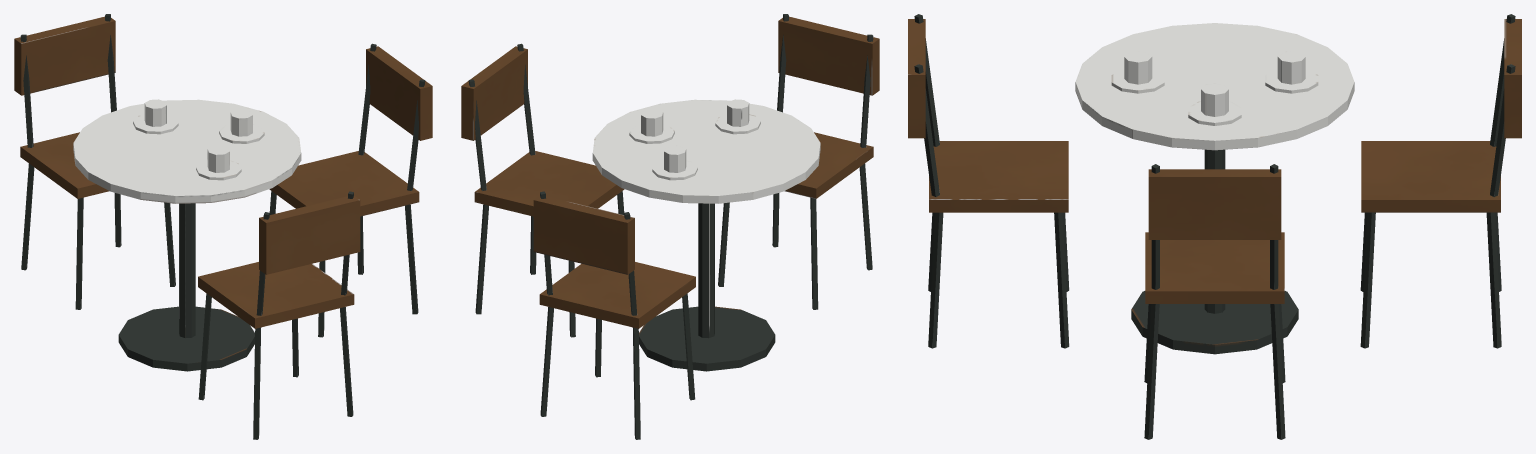
File: stolek_kavarna_dc02192d.glb
3 views of the same model, side by side, from view 1: azimuth 30°, elevation 25°; view 2: azimuth 150°, elevation 25°; view 3: azimuth 270°, elevation 25° (orthographic). The views are drawn at different scales.
Parts seen in each view (by area): view 1: dum; view 2: dum; view 3: dum.
Boxes of the visible parts, x1,y1,x2,y2 form: dum: (14,14,432,439); dum: (461,14,879,439); dum: (908,14,1521,439).
Bounding box in the file's own units: 1.28 × 0.8797 × 1.76.
1 material, 1 textured.
